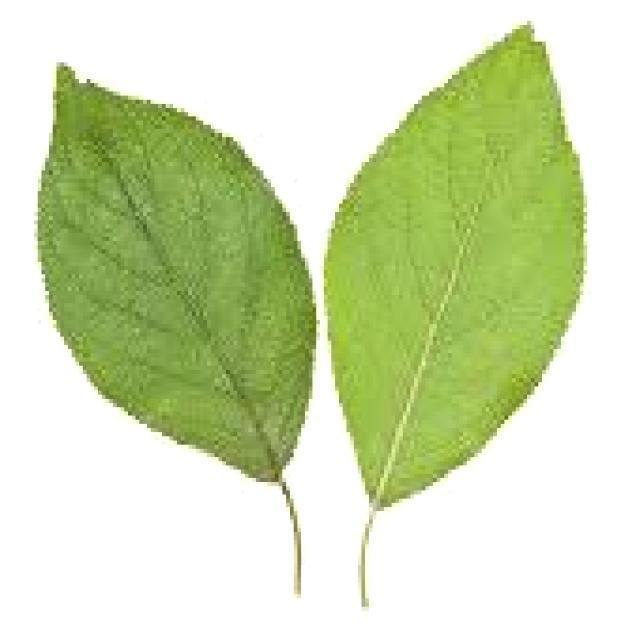leaf: (322, 19, 587, 607), (35, 60, 317, 596)
